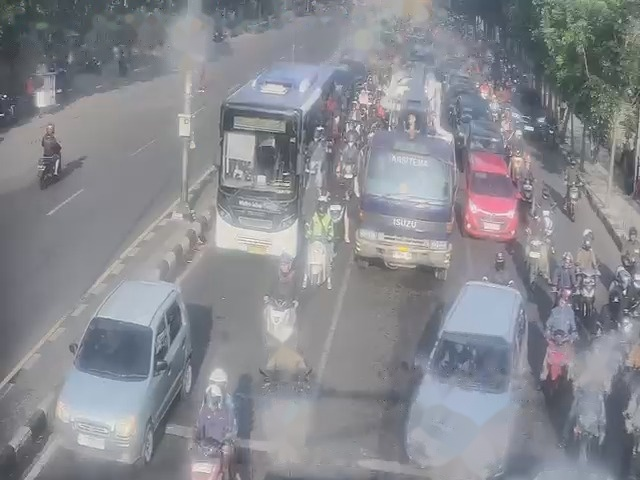Bis: (214, 60, 334, 248)
Mobil: (77, 271, 191, 461), (412, 285, 527, 450), (469, 159, 511, 231)
Motor: (266, 372, 298, 441), (191, 429, 234, 480), (546, 332, 569, 388), (576, 270, 597, 324), (305, 240, 326, 290), (262, 304, 288, 344), (314, 197, 335, 242), (574, 406, 594, 451), (525, 235, 543, 283), (29, 75, 55, 106), (341, 160, 358, 188), (328, 198, 342, 227), (619, 314, 635, 339), (513, 147, 527, 174), (538, 215, 553, 238), (564, 184, 577, 210), (526, 175, 531, 207), (631, 271, 639, 286)
Truk: (358, 130, 456, 276)
